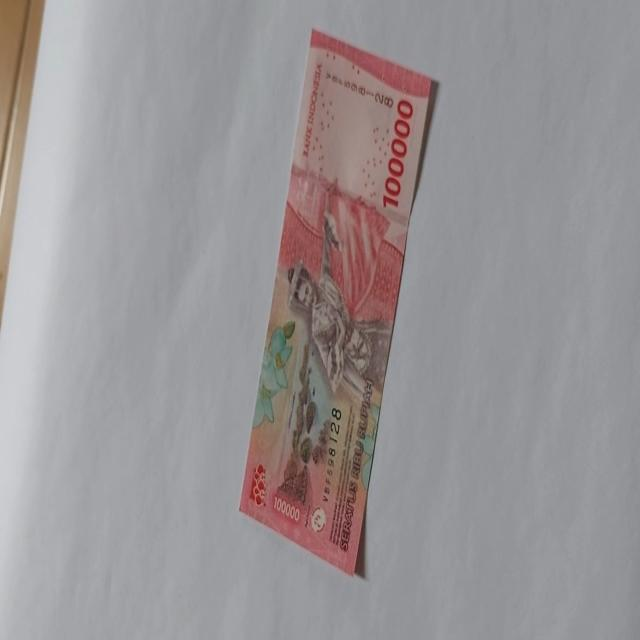seratus ribu rupiah: (237, 26, 439, 578)
